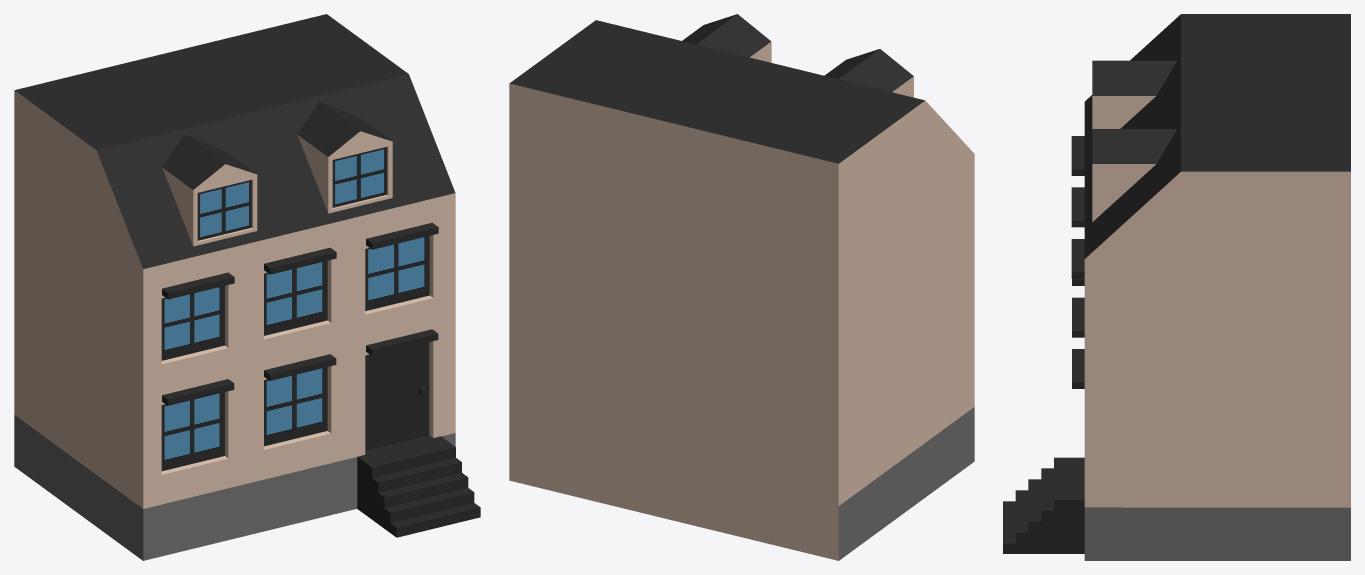
Rendered from NormalSquereBeige.obj.
3 views of the same model, side by side, from view 1: azimuth 30°, elevation 25°; view 2: azimuth 150°, elevation 25°; view 3: azimuth 270°, elevation 25° (orthographic). The views are drawn at different scales.
Visible parts, largest first — view 1: ZwyklayKwadratowyBezowy; view 2: ZwyklayKwadratowyBezowy; view 3: ZwyklayKwadratowyBezowy.
Part boxes in pixels (left/top/right/bottom): ZwyklayKwadratowyBezowy: left=14, top=14, right=480, bottom=560; ZwyklayKwadratowyBezowy: left=509, top=14, right=974, bottom=560; ZwyklayKwadratowyBezowy: left=1003, top=14, right=1350, bottom=560.
Bounding box in the file's own units: 7 × 8.07 × 6.53.
